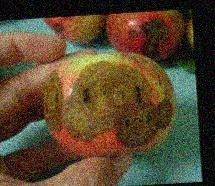rotten apple: (40, 50, 180, 159), (106, 11, 184, 60), (43, 15, 105, 46)
